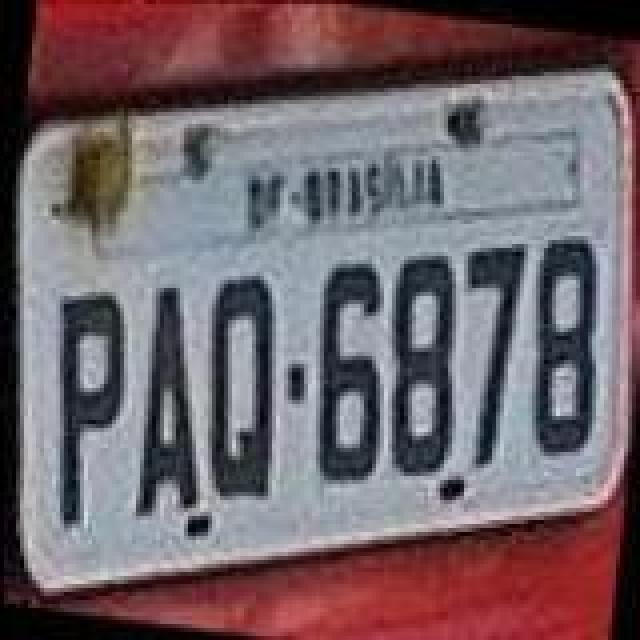6: (294, 254, 398, 486)
7: (440, 232, 532, 468)
8: (370, 244, 474, 480), (514, 234, 618, 462)
A: (130, 280, 226, 532)
P: (26, 284, 138, 532)
Q: (188, 268, 296, 504)
